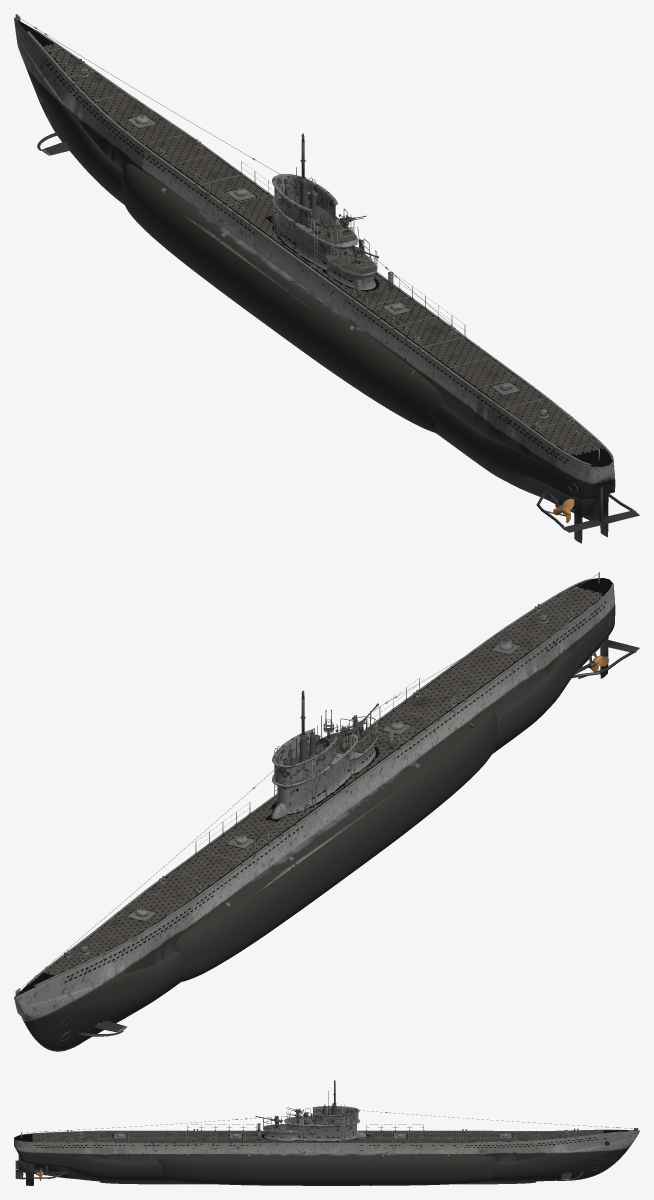
The model's file is u505_game.glb.
3 renders of one model, top to bottom at view 1: azimuth 30°, elevation 25°; view 2: azimuth 150°, elevation 25°; view 3: azimuth 270°, elevation 25°, orthographic. The views are drawn at different scales.
Parts seen in each view (by area): view 1: U505_PaintTex, U505_DeckTex, U505_TowerPaintTex, U505_Void, U505_Galv, U505_Gun, U505_GratingTex, U505_Hole; view 2: U505_PaintTex, U505_DeckTex, U505_TowerPaintTex, U505_Void, U505_Galv, U505_Gun, U505_Hole, U505_GratingTex; view 3: U505_PaintTex, U505_DeckTex, U505_TowerPaintTex, U505_Void, U505_Galv, U505_Gun, U505_Hole, U505_GratingTex.
Part boxes in pixels (<box>): U505_PaintTex: <box>14,14,639,543</box>; U505_DeckTex: <box>43,43,603,455</box>; U505_TowerPaintTex: <box>271,174,377,289</box>; U505_Void: <box>14,18,612,466</box>; U505_Galv: <box>20,18,599,460</box>; U505_Gun: <box>49,49,592,445</box>; U505_GratingTex: <box>284,193,376,274</box>; U505_Hole: <box>43,59,568,463</box>; U505_PaintTex: <box>14,579,639,1051</box>; U505_DeckTex: <box>43,586,602,975</box>; U505_TowerPaintTex: <box>271,730,377,819</box>; U505_Void: <box>15,578,613,997</box>; U505_Galv: <box>21,572,599,988</box>; U505_Gun: <box>49,589,592,971</box>; U505_Hole: <box>65,601,606,1033</box>; U505_GratingTex: <box>288,731,376,765</box>; U505_PaintTex: <box>14,1123,639,1185</box>; U505_DeckTex: <box>32,1130,603,1142</box>; U505_TowerPaintTex: <box>263,1106,366,1140</box>; U505_Void: <box>14,1130,634,1142</box>; U505_Galv: <box>21,1104,632,1142</box>; U505_Gun: <box>67,1080,578,1139</box>; U505_Hole: <box>34,1114,609,1185</box>; U505_GratingTex: <box>265,1116,312,1131</box>.
Bounding box in the file's own units: 6.9 × 13.92 × 76.84.
11 materials, 4 textured.
